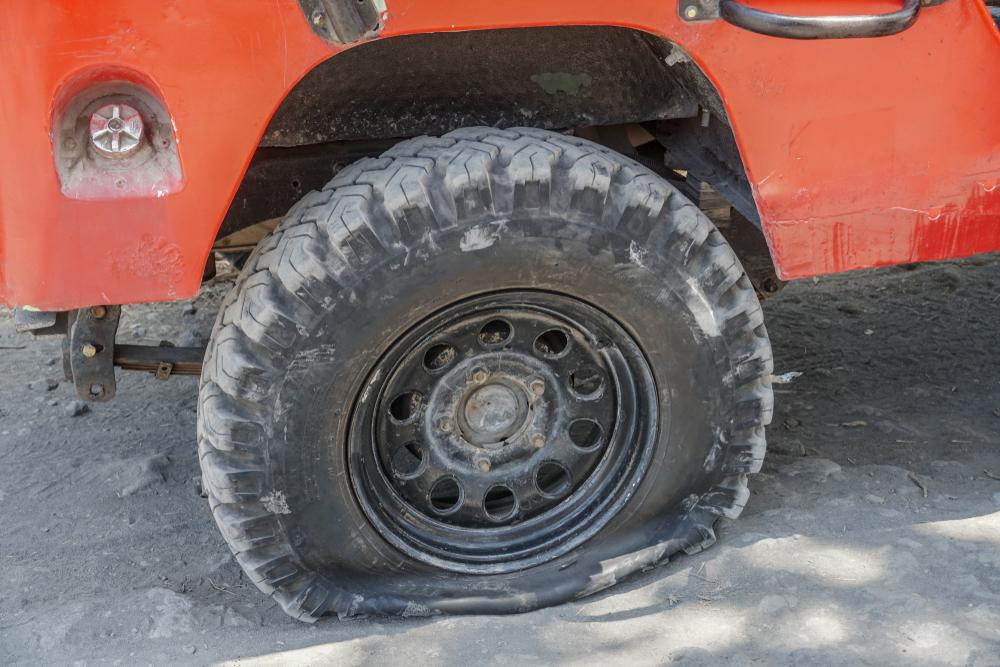tire flat: (194, 126, 776, 622)
